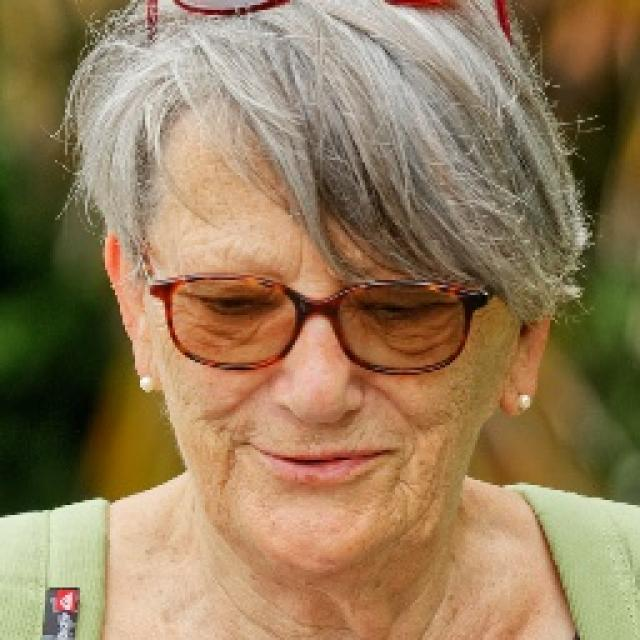earlobe: (499, 340, 544, 416), (127, 331, 160, 393)
eye: (357, 294, 441, 322), (193, 290, 269, 314)
nose: (277, 405, 368, 437)
wholeear: (101, 230, 162, 393), (500, 293, 558, 417)
